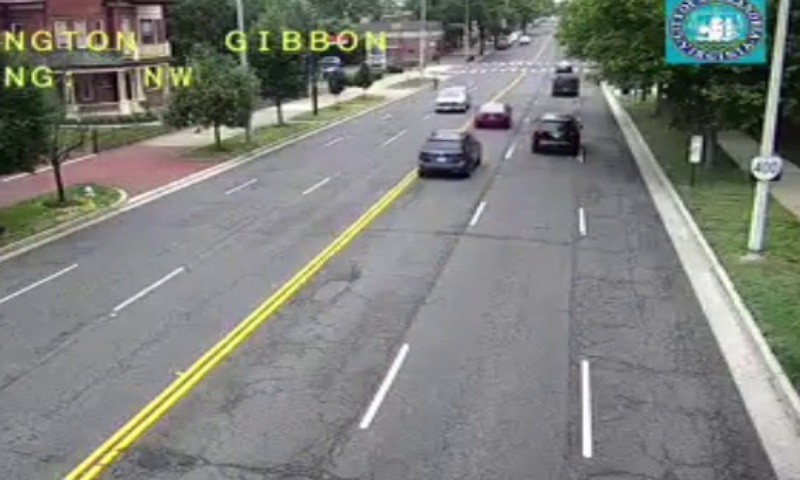car: (417, 131, 479, 175), (532, 113, 578, 149), (473, 101, 512, 128), (550, 74, 580, 98)
